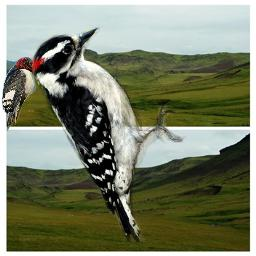Woodpecker: (30, 27, 186, 242), (2, 57, 42, 131)
